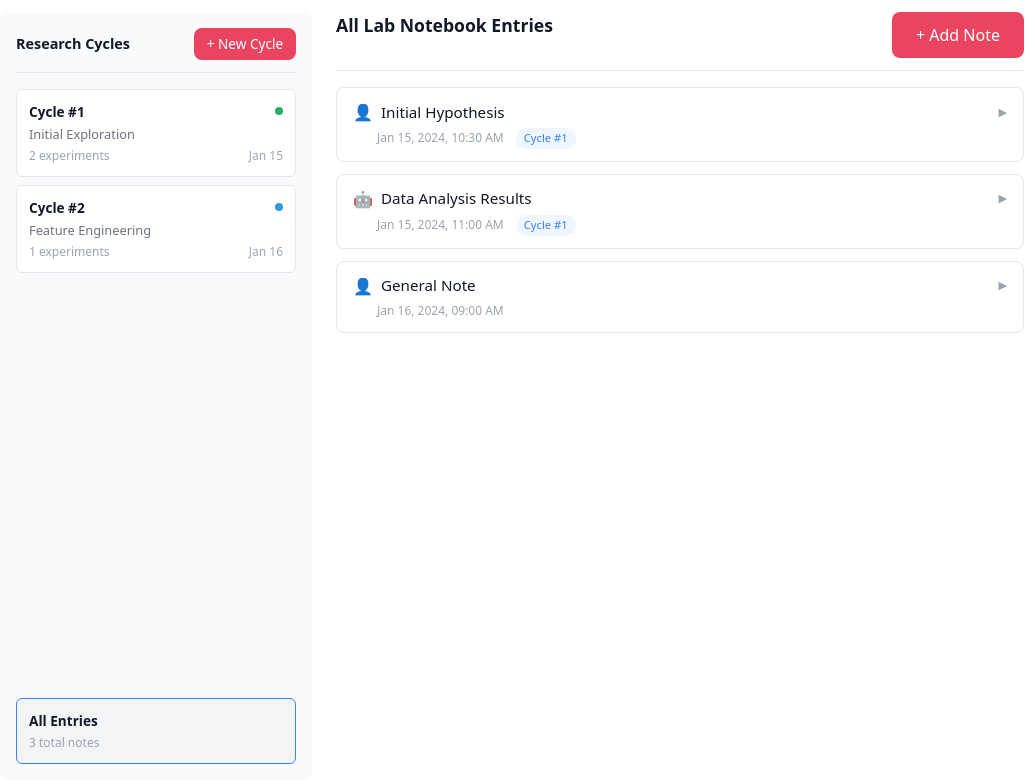
Test: ResearchNotebook › expands entry to show content when clicked
Note: Click on the entry title to expand
Click the heading "Initial Hypothesis" at point(443, 112), box [381,102,505,122]
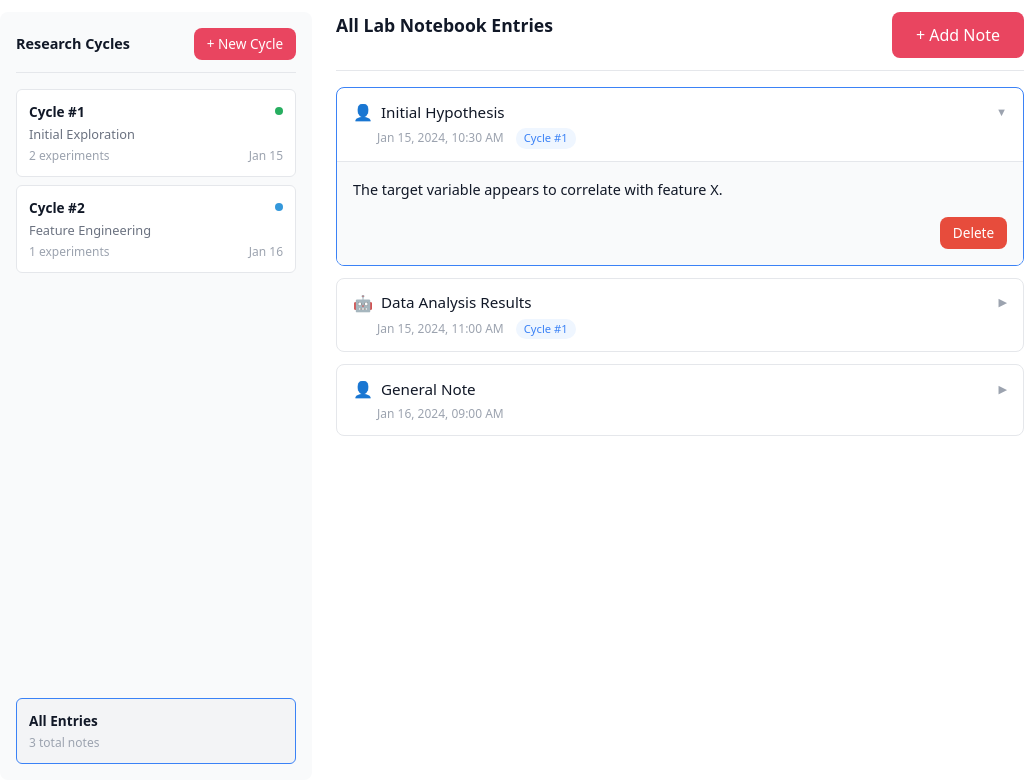
Result: the text "The target variable appears to correlate with feature X." is shown at [353,180,722,199]
